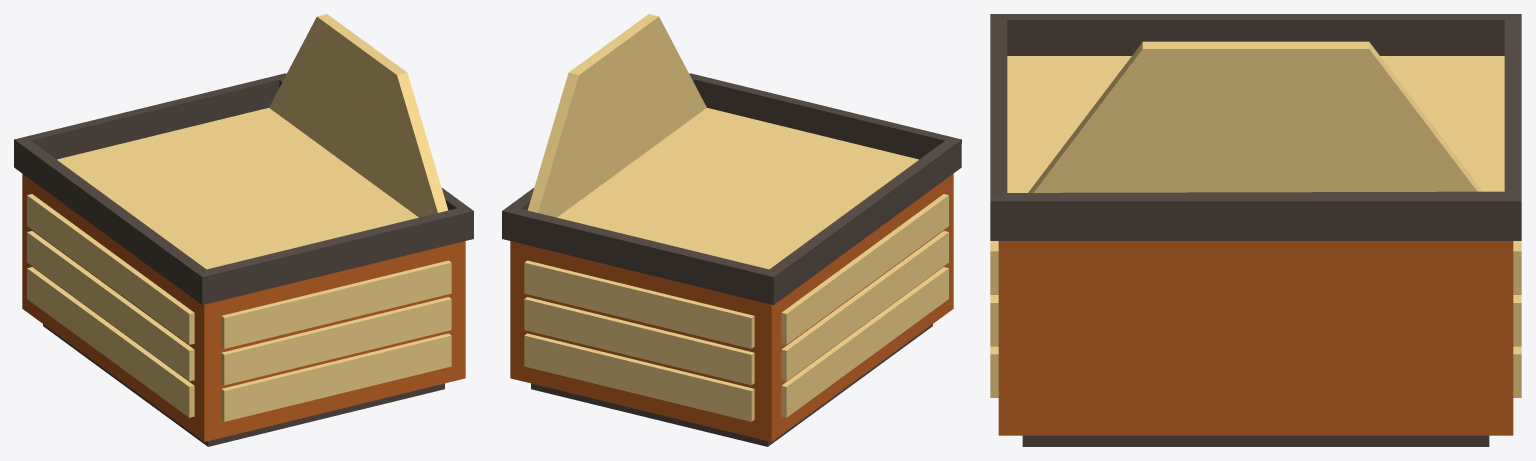
Rendered from SM_ShelfA_Side.fbx.
3 renders of one model, left to right at view 1: azimuth 30°, elevation 25°; view 2: azimuth 150°, elevation 25°; view 3: azimuth 270°, elevation 25°, orthographic. The views are drawn at different scales.
Parts seen in each view (by area): view 1: SM_ShelfA_Side; view 2: SM_ShelfA_Side; view 3: SM_ShelfA_Side.
Boxes of the visible parts, bbox=[...] form: SM_ShelfA_Side: bbox=[14, 14, 473, 446]; SM_ShelfA_Side: bbox=[502, 14, 961, 446]; SM_ShelfA_Side: bbox=[990, 14, 1521, 446].
Size of the model in its own units: 100 by 100 by 120.
